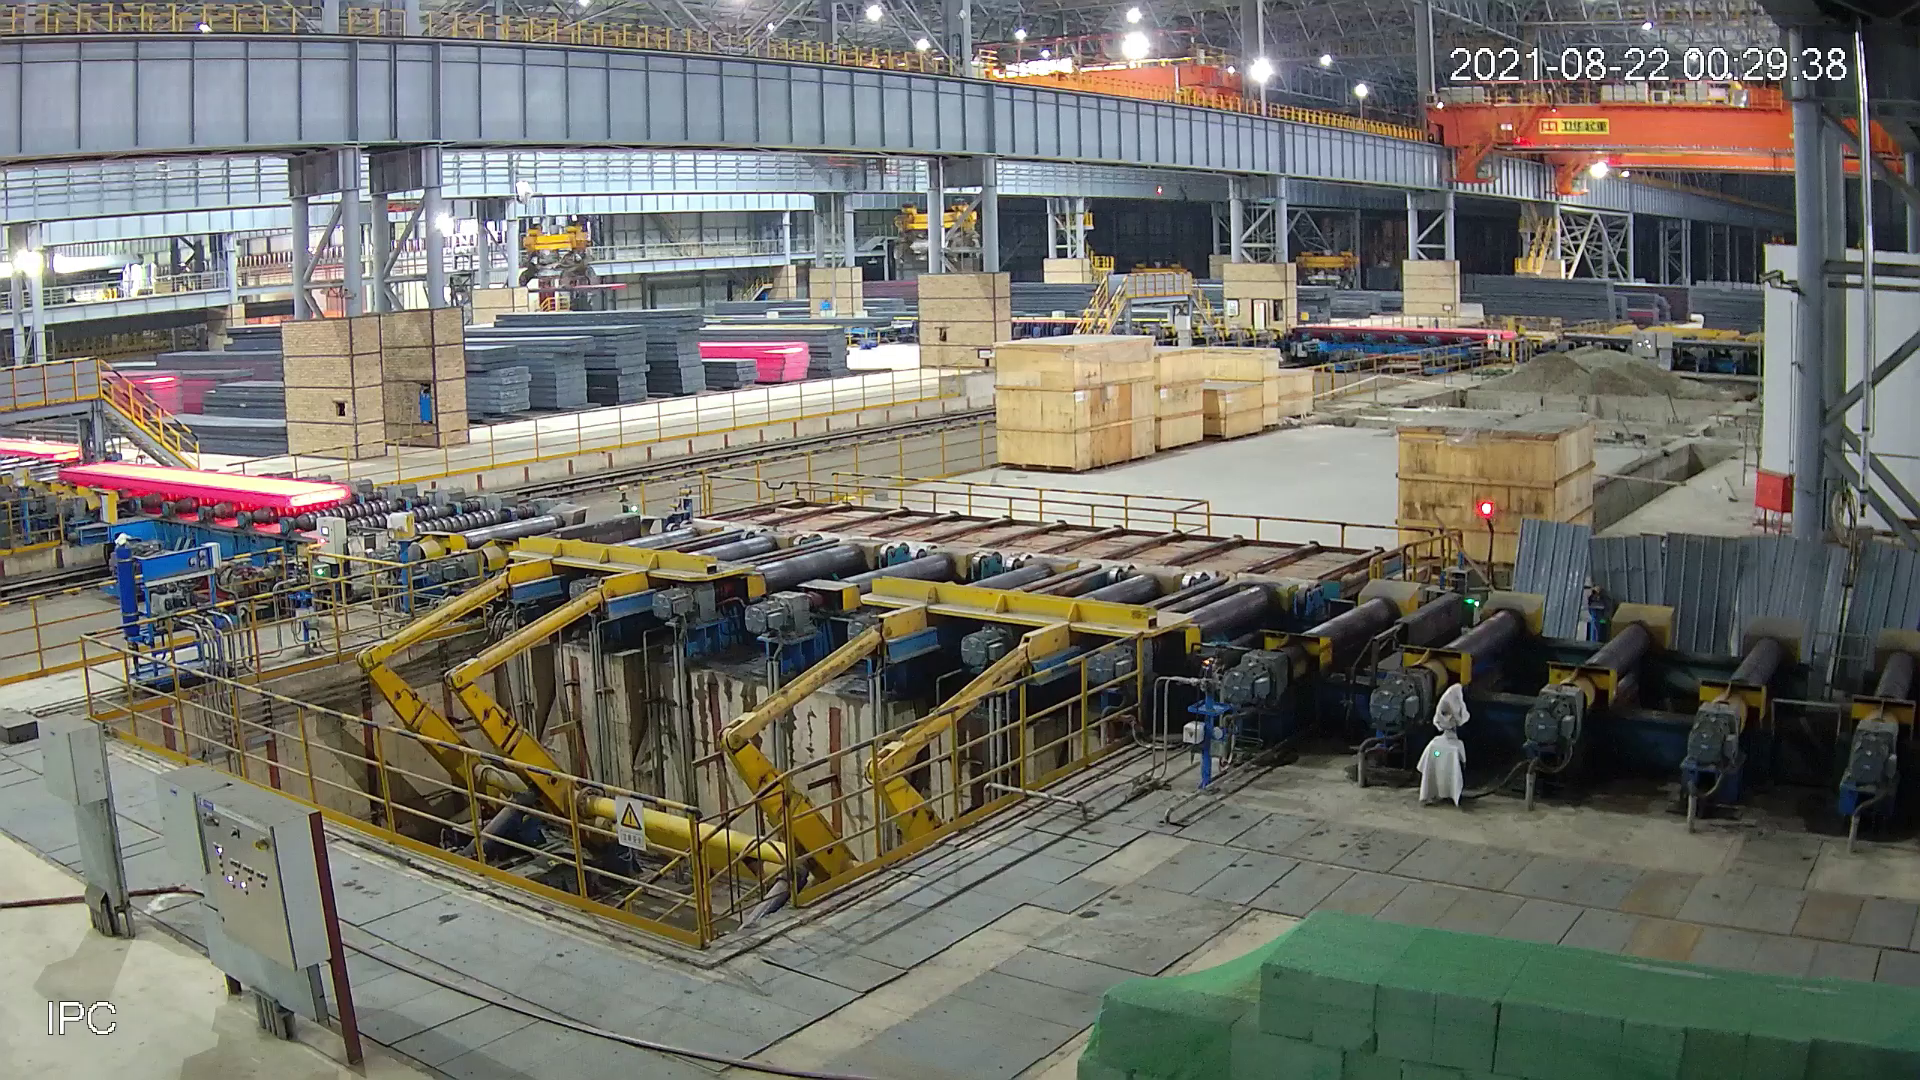slab: (54, 450, 355, 517)
